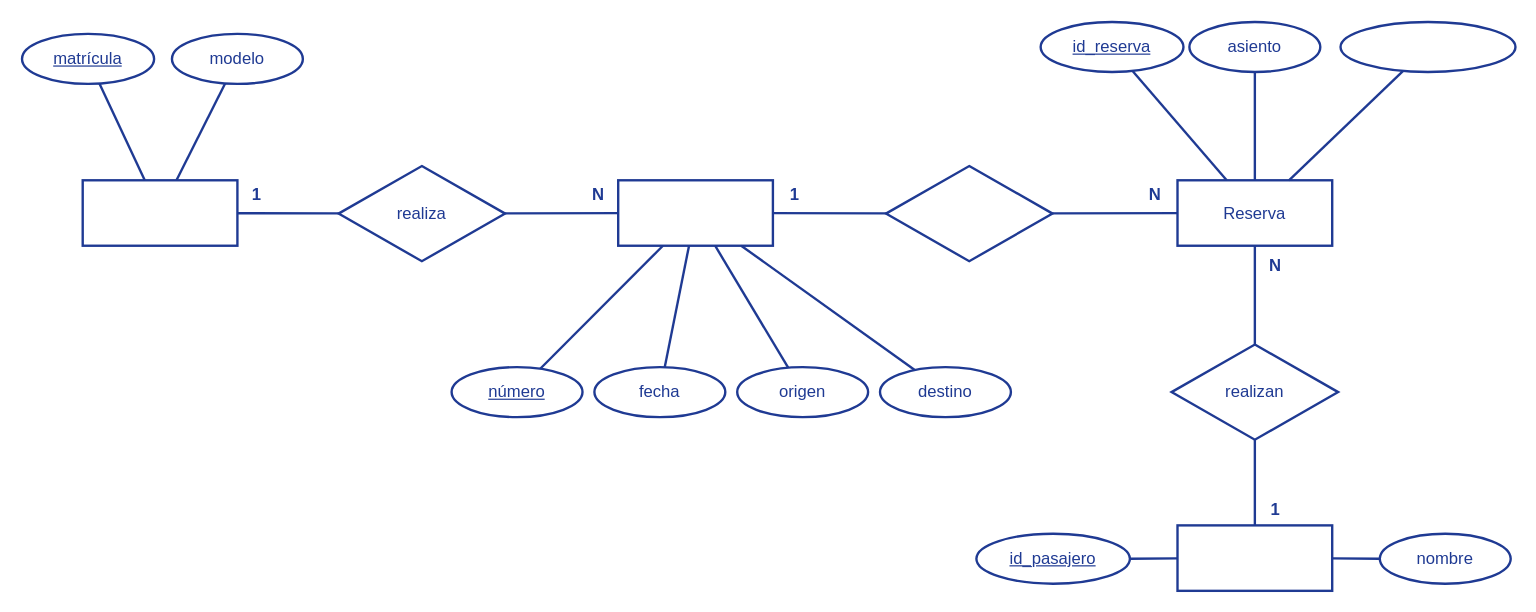
Image size: 1536x612. Some labels were removed from this diagram. The shapes that lost their labels are listed below. From the top down, each one's centre as x and y in pixels, then its label:
pixel 1427 46: tarifa_pagada
pixel 159 212: Avión
pixel 695 212: Vuelo
pixel 968 213: tiene
pixel 1254 557: Pasajero
